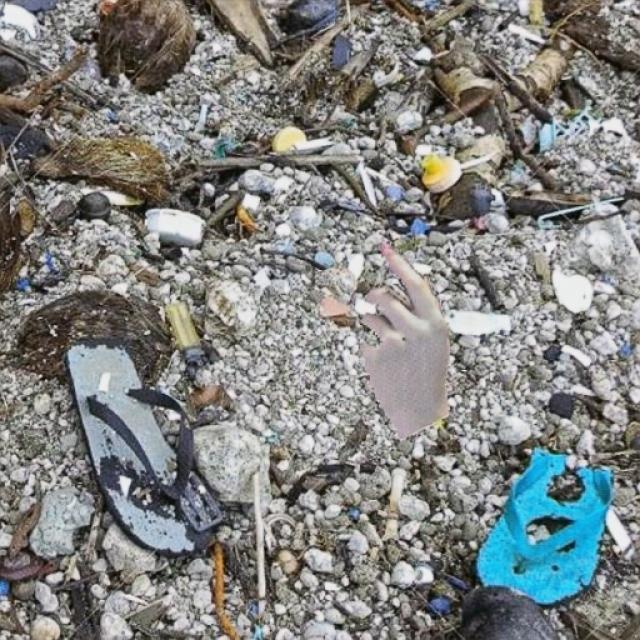Person in Rubble: (358, 242, 452, 438)
